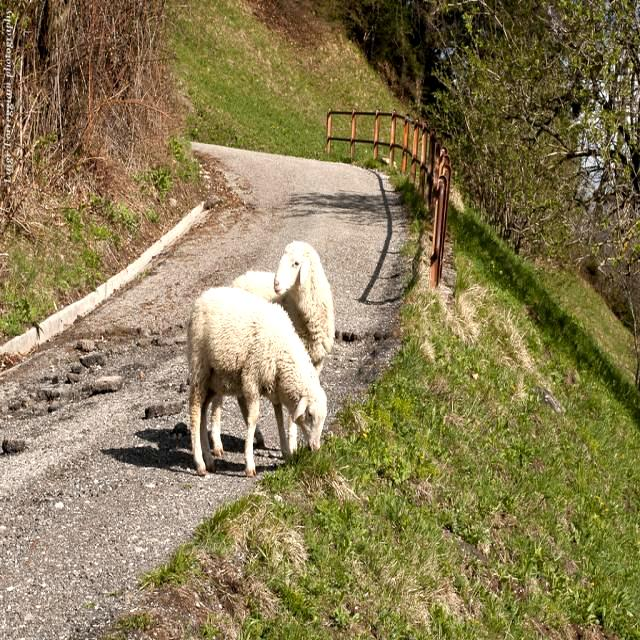sheep: (233, 240, 334, 374)
